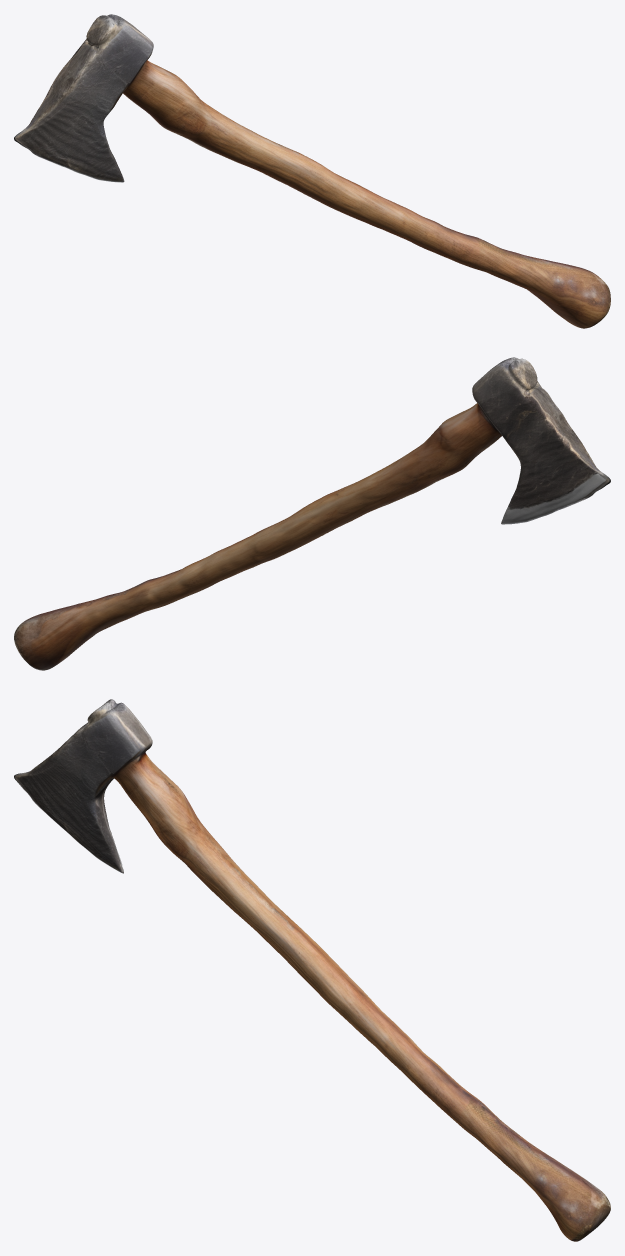
File: a_wooden_and_stone_ax_0902172515_refine.fbx
The picture shows the model from 3 angles, top to bottom: view 1: azimuth 30°, elevation 25°; view 2: azimuth 150°, elevation 25°; view 3: azimuth 330°, elevation 25°; orthographic projection.
Visible parts, largest first — view 1: Mesh_0; view 2: Mesh_0; view 3: Mesh_0.
Part boxes in pixels (<box>): Mesh_0: <box>14,14,610,328</box>; Mesh_0: <box>14,357,610,670</box>; Mesh_0: <box>14,699,610,1241</box>.
Size of the model in its own units: 200 by 137 by 14.7.
Materials: 1 (1 with a texture image).
